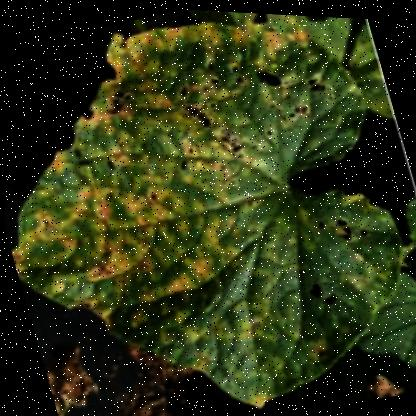DownyMildew: (16, 120, 271, 352), (96, 4, 349, 204), (178, 169, 369, 365), (140, 252, 318, 415)
